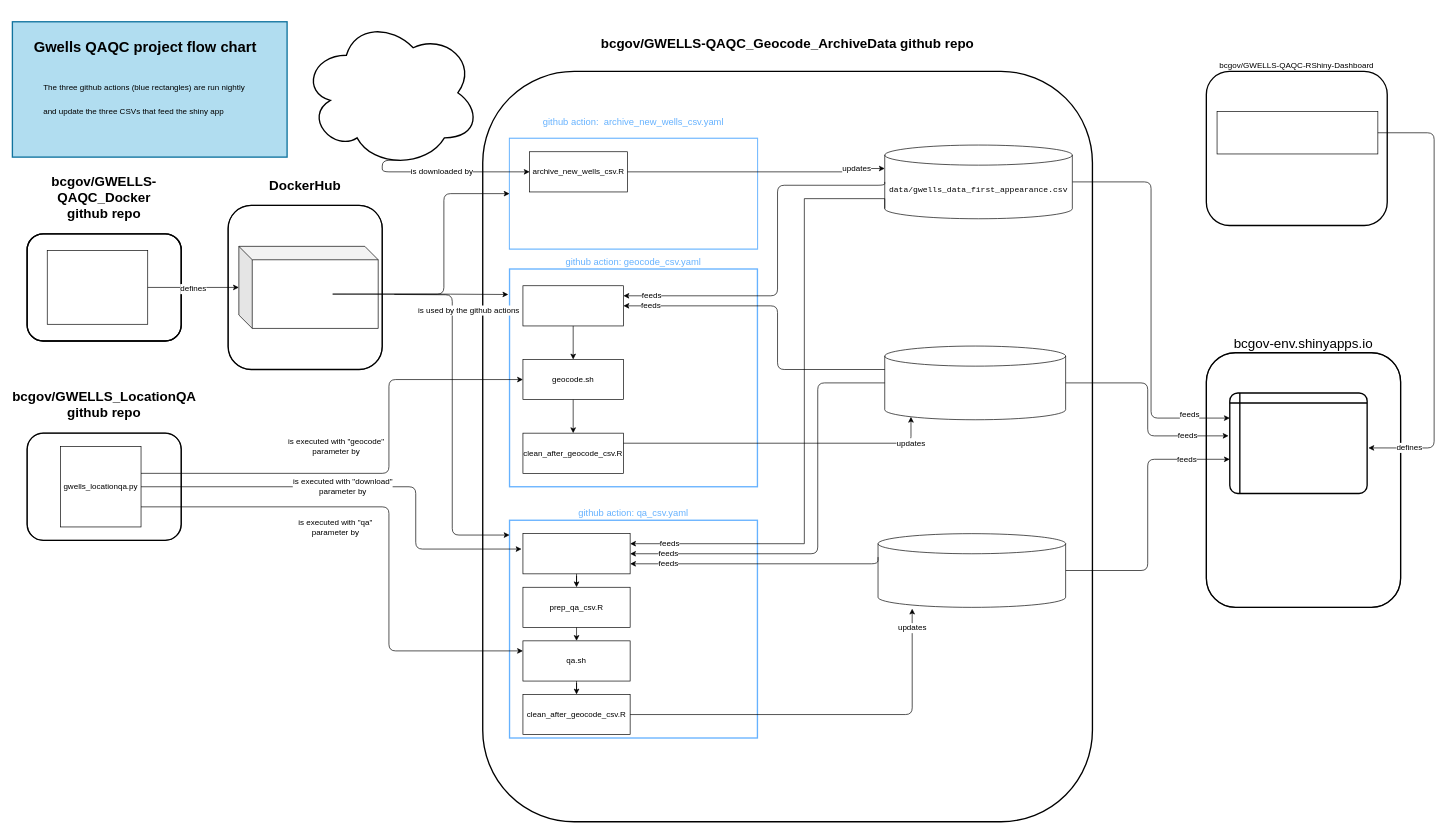
Image size: 1451x833. Some labels were removed from this diagram. Each missing label, with the centre of its shape:
data/gwells_locationqa.csv: (x=971, y=570)
data/wells_geocoded.csv: (x=975, y=382)
Dockerfile: (x=97, y=287)
download.sh: (x=576, y=553)
https://bcgov-env.shinyapps.io/gwells-qaqc-rshiny-dashboard/: (x=1298, y=443)
https://s3.ca-central-1.amazonaws.com/gwells-export/export/v2/gwells.zip: (x=390, y=92)
lespelleteux/docker_for_gwells docker image: (x=308, y=287)
prep_geocode_csv.R: (x=572, y=305)
rsconnect::deployApp(account="bcgov-env"): (x=1297, y=132)
